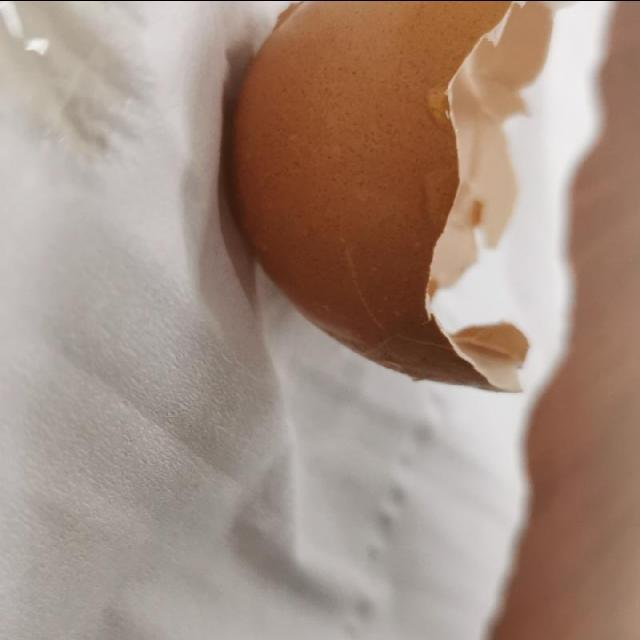egg shell: (228, 1, 552, 396)
